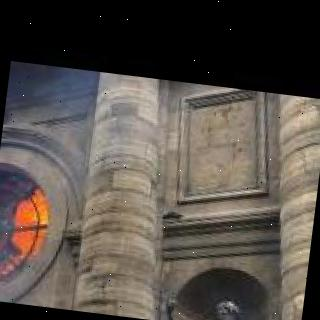fire: (1, 178, 60, 263), (0, 289, 40, 306)
